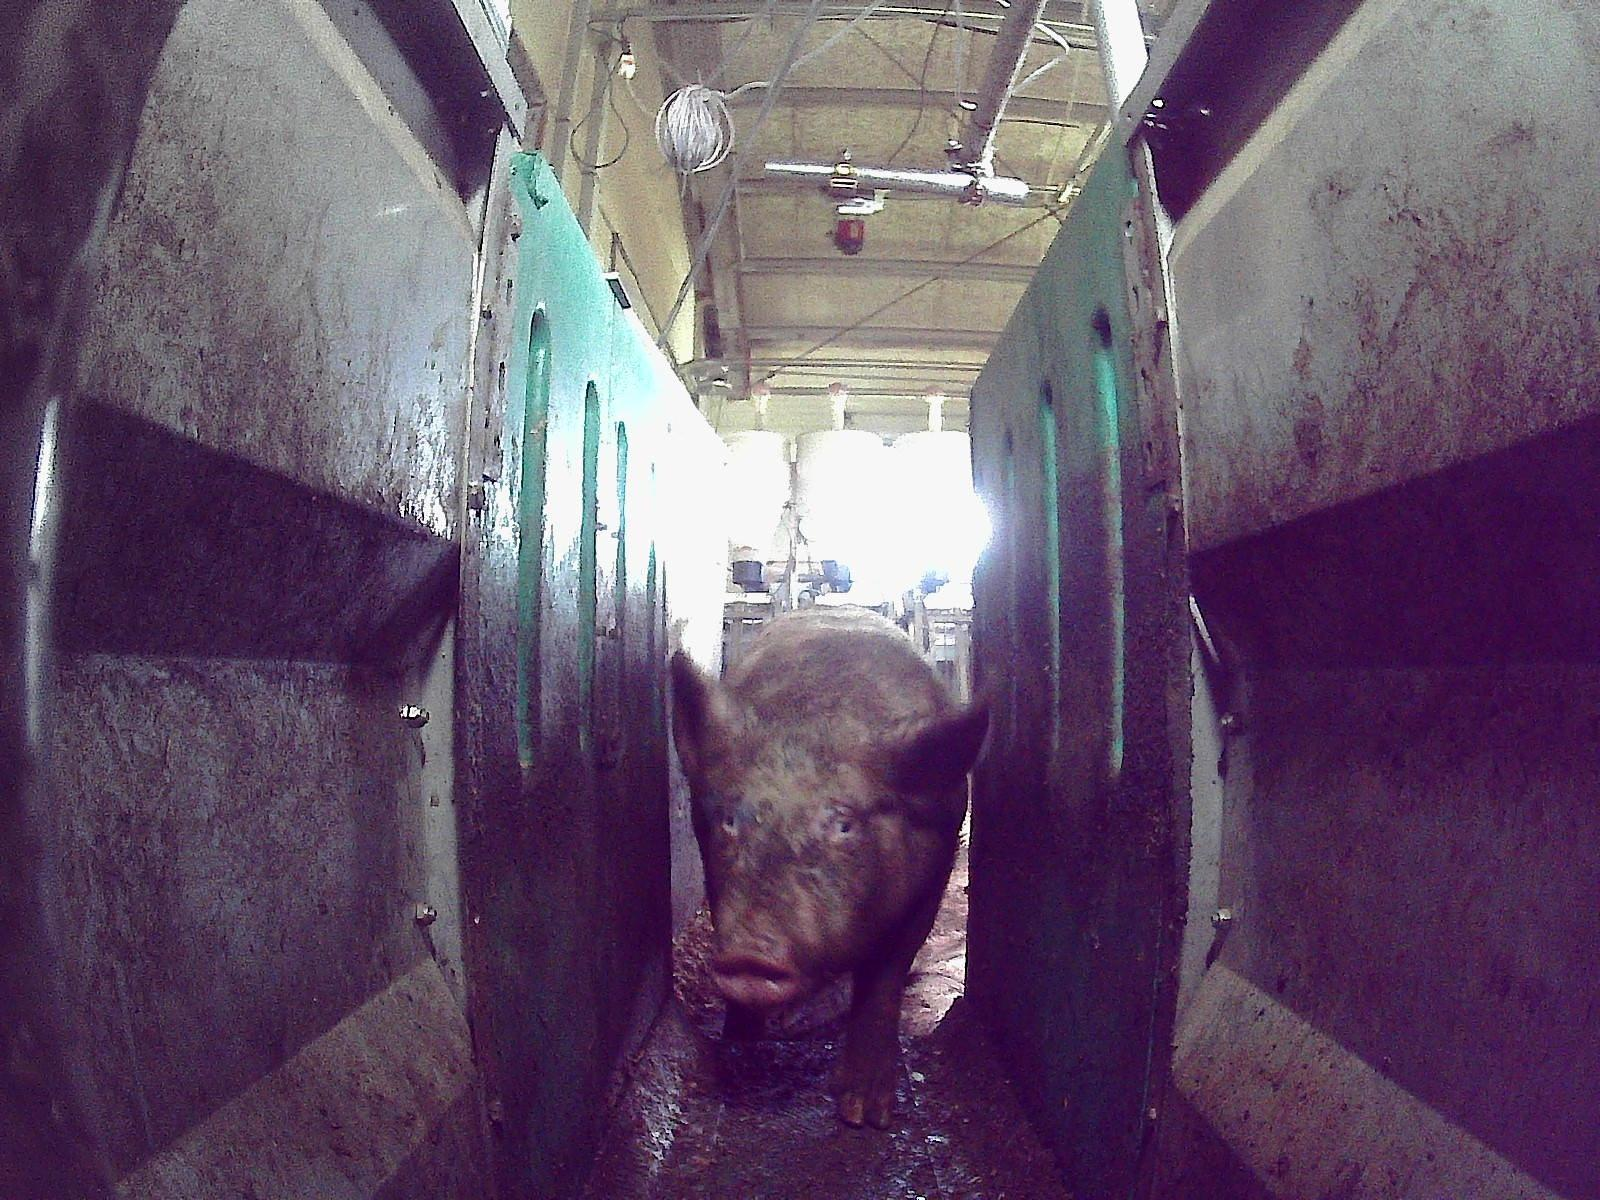Face: (700, 737, 906, 1009)
